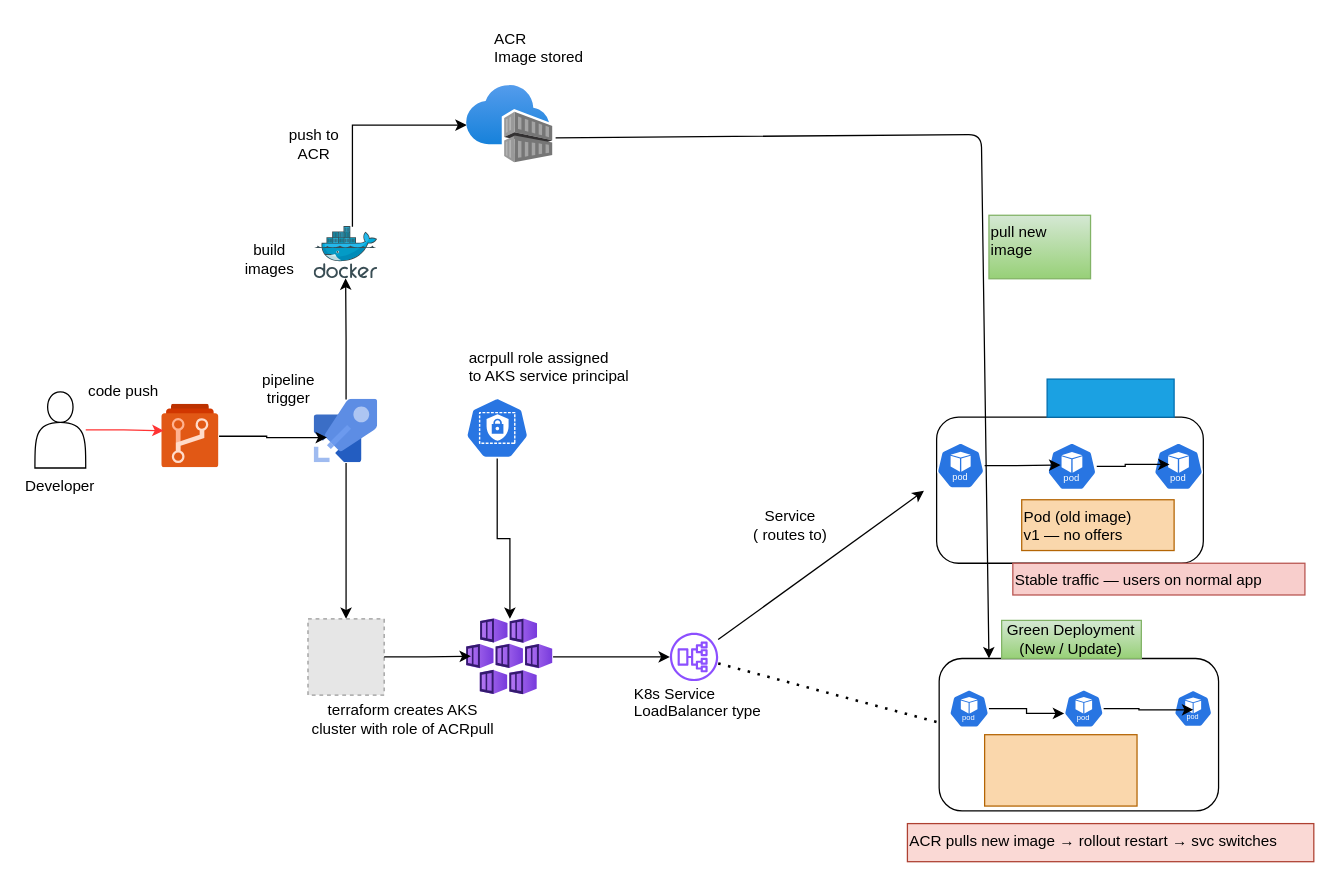
This 1336x884 diagram has some shape labels left out. Grey dashed boxes stand in for pictures. The shapes that lost their labels are listed below. From the top down, each one's centre as x and y in pixels, then its label:
At (x=1110, y=397): "Blue Deployment (Current / State)".
At (x=1060, y=769): "Pod (new image) v2 — 50% off sale code active".
